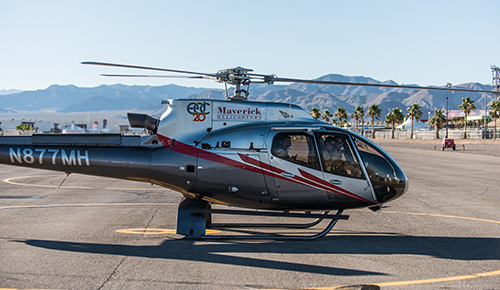Helicopter: (19, 54, 450, 234)
